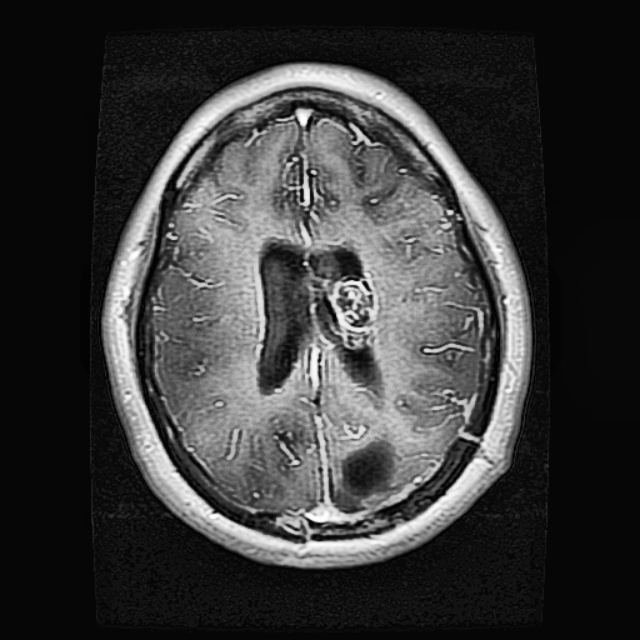Meningioma: (307, 243, 382, 355)
